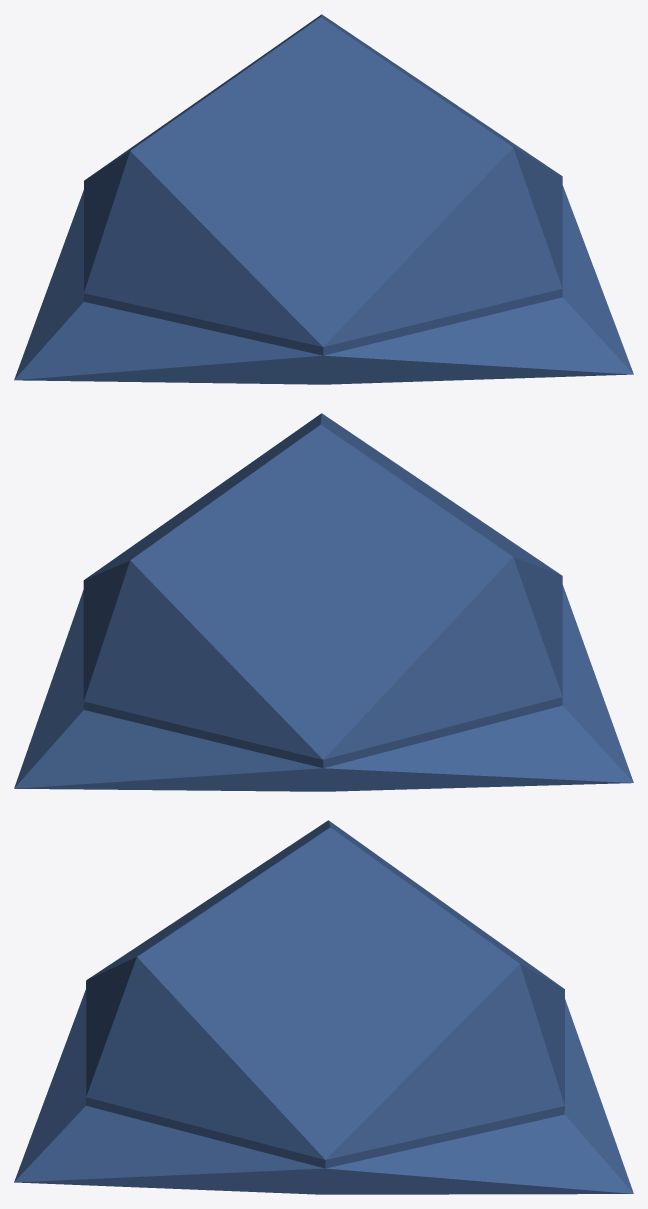
Rendered from tree-winter-leaves-022.glb.
The picture shows the model from 3 angles, top to bottom: view 1: azimuth 30°, elevation 25°; view 2: azimuth 150°, elevation 25°; view 3: azimuth 270°, elevation 25°; orthographic projection.
Parts seen in each view (by area): view 1: dobj.002_154; view 2: dobj.002_154; view 3: dobj.002_154.
Boxes of the visible parts, x1=… form: dobj.002_154: x1=14, y1=14, x2=633, y2=384; dobj.002_154: x1=14, y1=413, x2=633, y2=791; dobj.002_154: x1=14, y1=820, x2=633, y2=1194.
Bounding box in the file's own units: 0.8999 × 0.482 × 0.8793.
